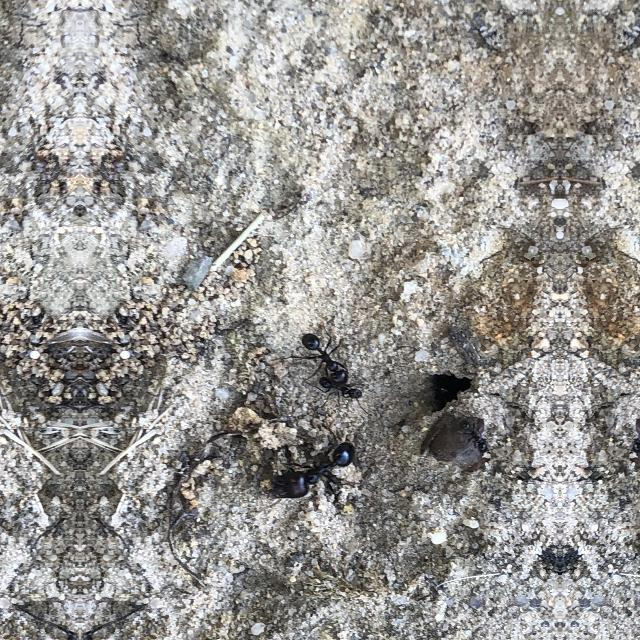Messor: (278, 430, 360, 508), (288, 328, 359, 392), (313, 374, 369, 408)
